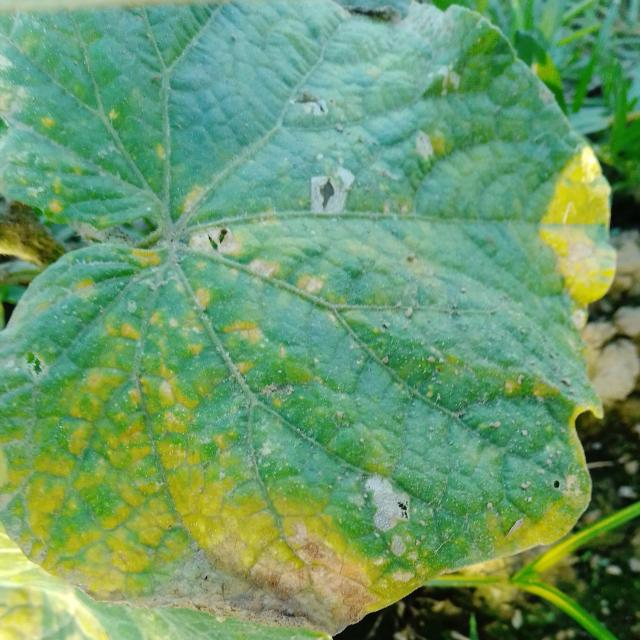cucumber_gummy: (0, 0, 625, 640)
